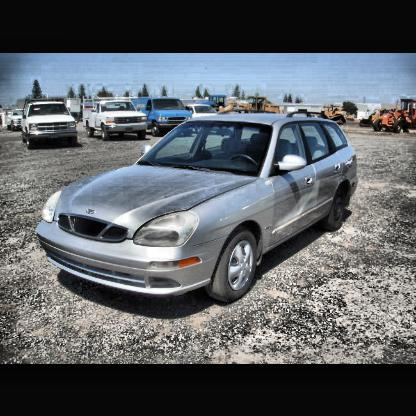Daewoo Nubira Wagon 2002: (39, 108, 360, 308)
